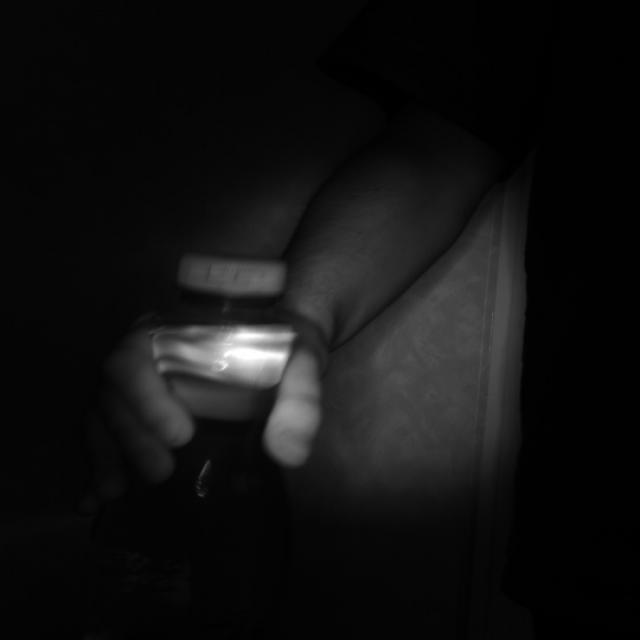Good: (178, 253, 280, 296)
